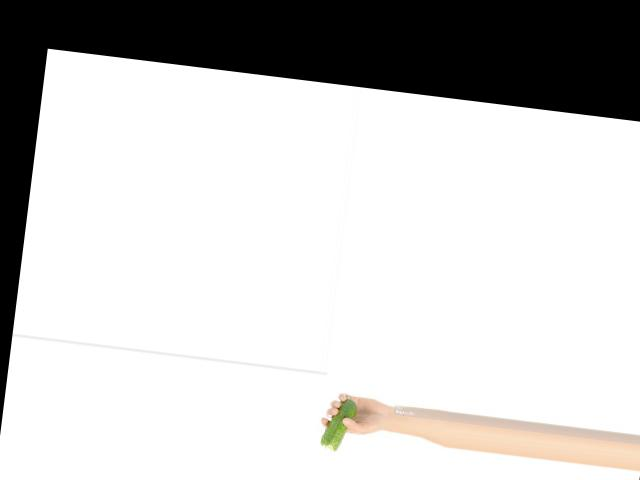cucumber: (320, 395, 358, 453)
